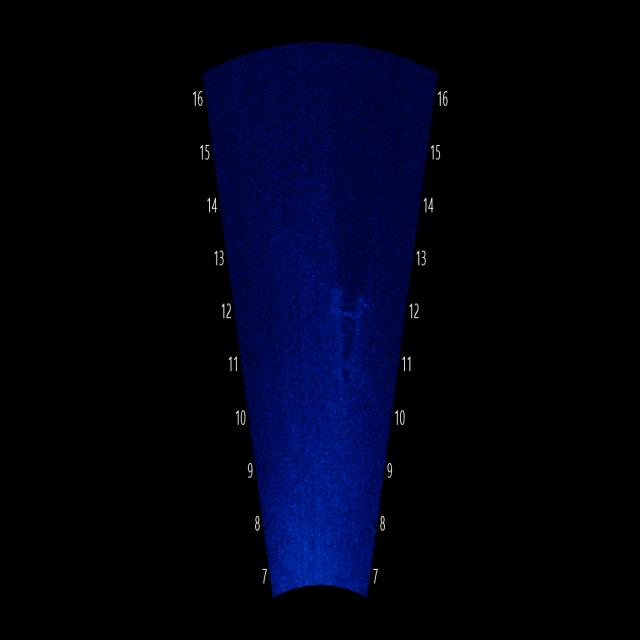triangle: (330, 282, 370, 436)
